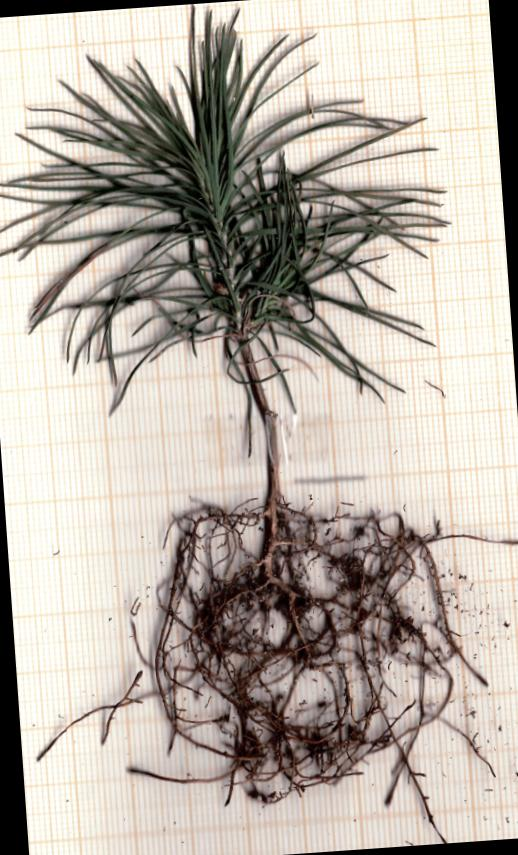flower: (0, 0, 465, 429)
root: (119, 474, 506, 826)
stem: (238, 344, 287, 493)
